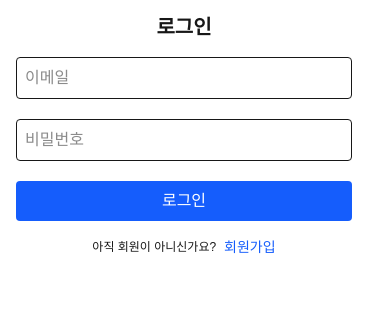
LoginPage › shows validation error when fields are empty
Click the button "로그인" at [184, 201], box [16, 181, 352, 221]
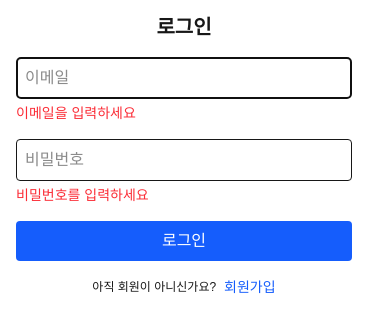
Now the text "이메일을 입력하세요" is shown, box [16, 105, 136, 121]
Now the text "비밀번호를 입력하세요" is shown, box [16, 187, 149, 203]
